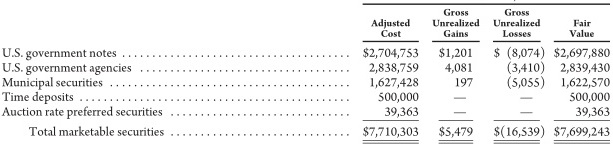column: (1, 1, 351, 149), (362, 1, 420, 149), (552, 1, 610, 149), (492, 1, 546, 148), (432, 1, 481, 149)
row: (1, 47, 613, 59), (1, 91, 613, 103), (1, 17, 612, 29), (1, 76, 612, 88), (1, 62, 613, 73), (1, 106, 613, 117), (1, 126, 613, 137), (1, 8, 612, 17), (1, 29, 612, 38)
